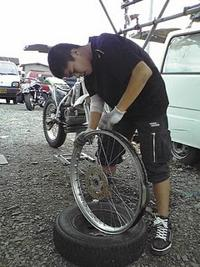person: (48, 33, 173, 258)
